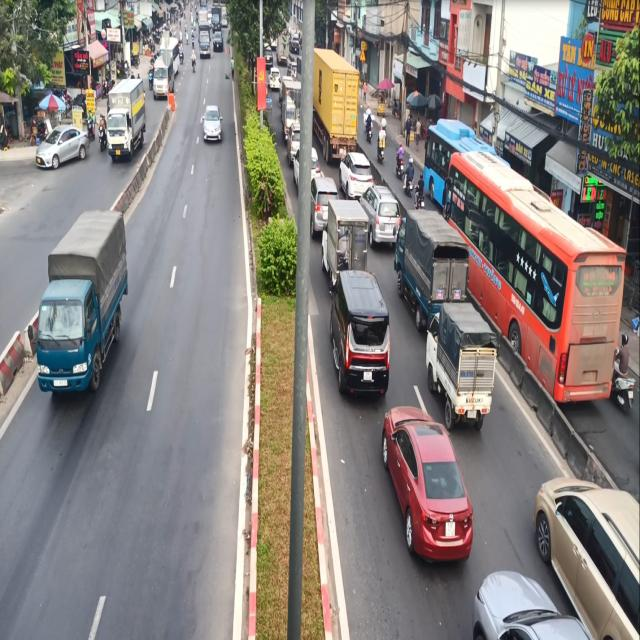car: (379, 399, 475, 582), (325, 269, 394, 398), (201, 96, 225, 146)
truck: (24, 201, 130, 423), (106, 79, 149, 170)
